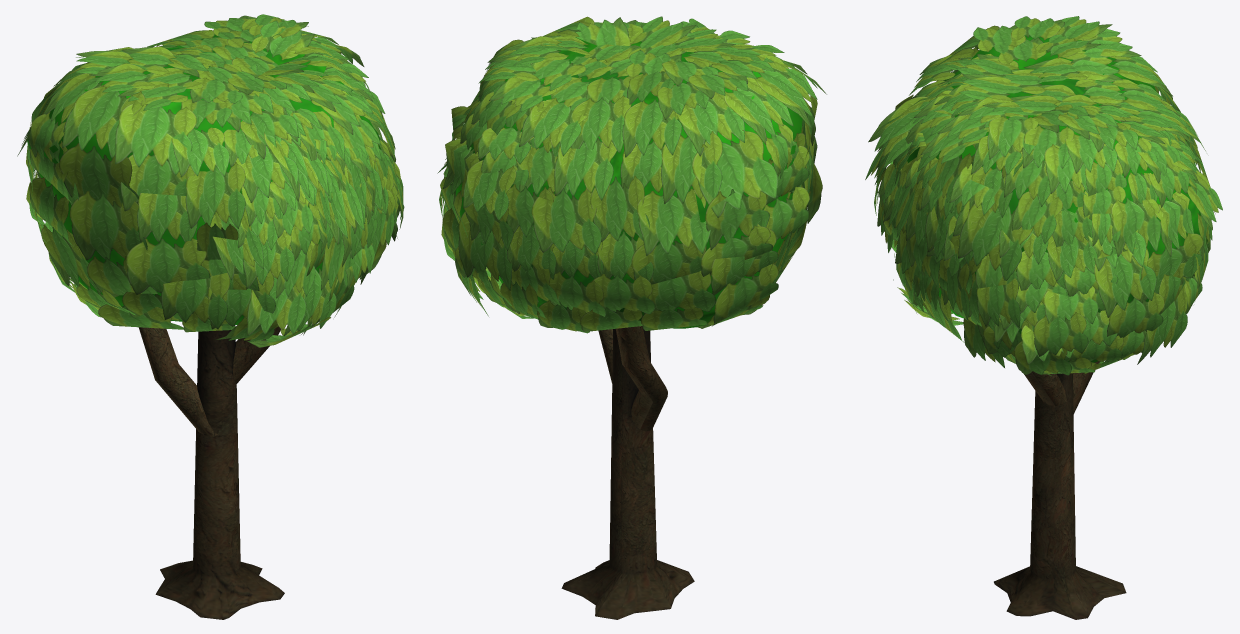
Rendered from RoundTree.fbx.
3 views of the same model, side by side, from view 1: azimuth 30°, elevation 25°; view 2: azimuth 150°, elevation 25°; view 3: azimuth 270°, elevation 25° (orthographic). The views are drawn at different scales.
Visible parts, largest first — view 1: RoundTree_Leaves, RoundTree_Base; view 2: RoundTree_Leaves, RoundTree_Base; view 3: RoundTree_Leaves, RoundTree_Base.
Part boxes in pixels (left/top/right/bottom): RoundTree_Leaves: left=17, top=14, right=404, bottom=347; RoundTree_Base: left=27, top=30, right=381, bottom=619; RoundTree_Leaves: left=437, top=16, right=826, bottom=333; RoundTree_Base: left=455, top=37, right=802, bottom=619; RoundTree_Leaves: left=865, top=16, right=1222, bottom=375; RoundTree_Base: left=907, top=35, right=1207, bottom=619.
Bounding box in the file's own units: 14.2 × 20.97 × 13.25.
